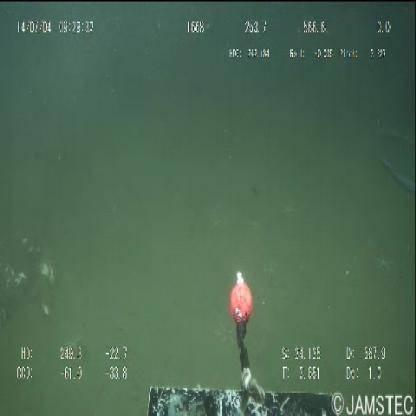Rác: (0, 227, 55, 327)
